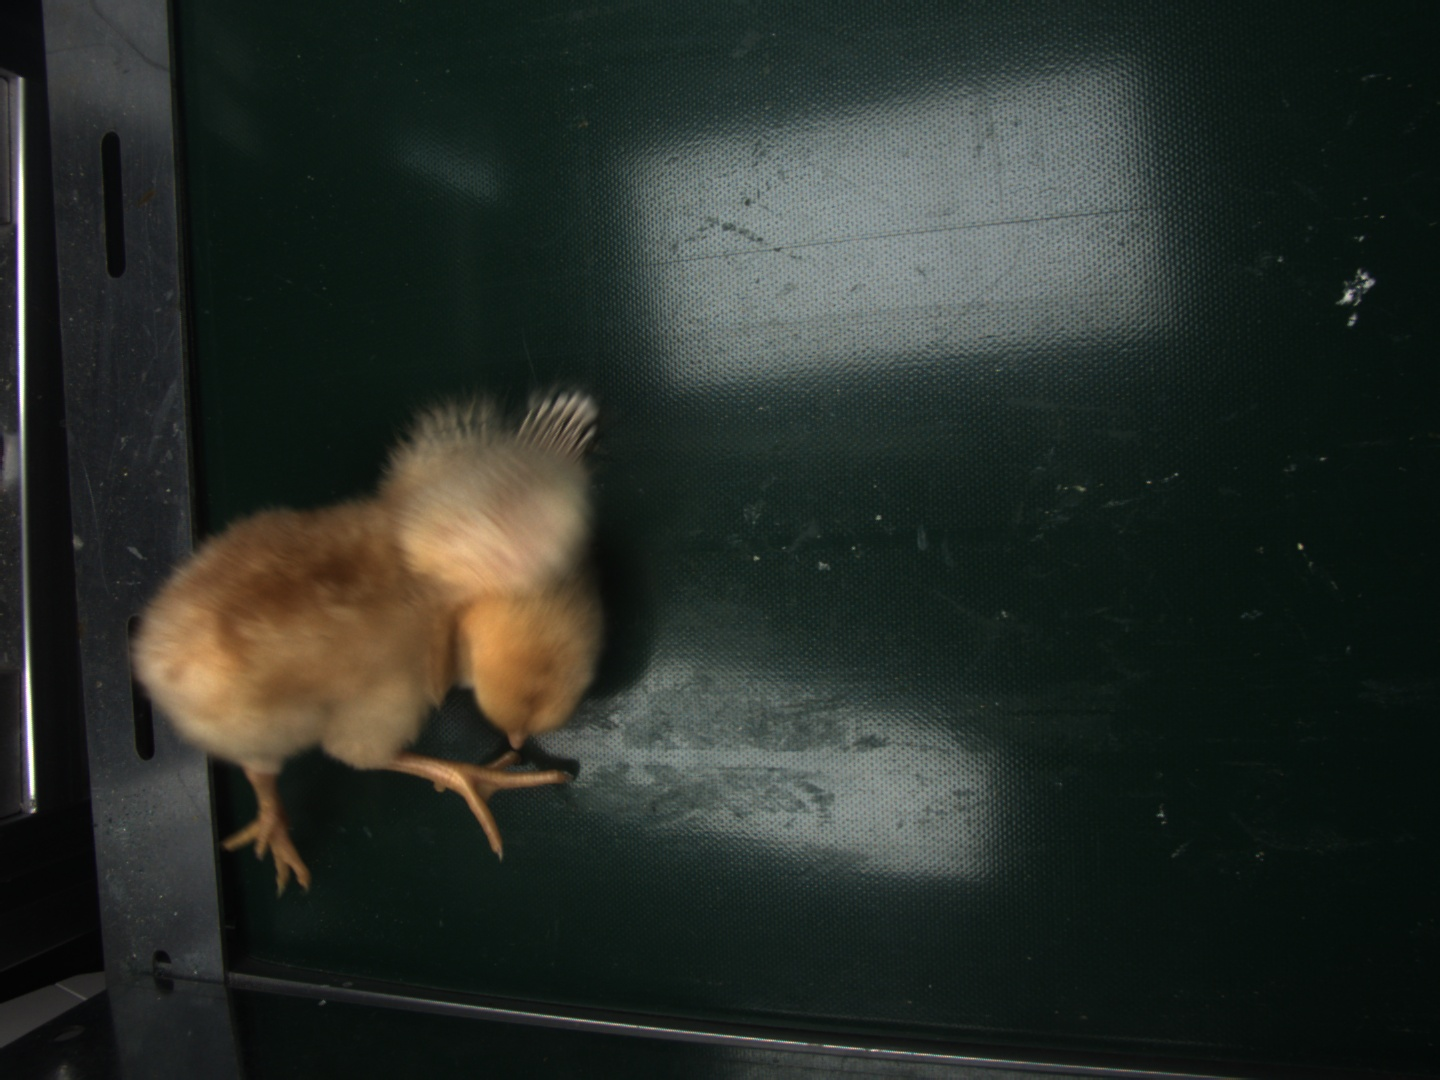female: (520, 387, 599, 454)
